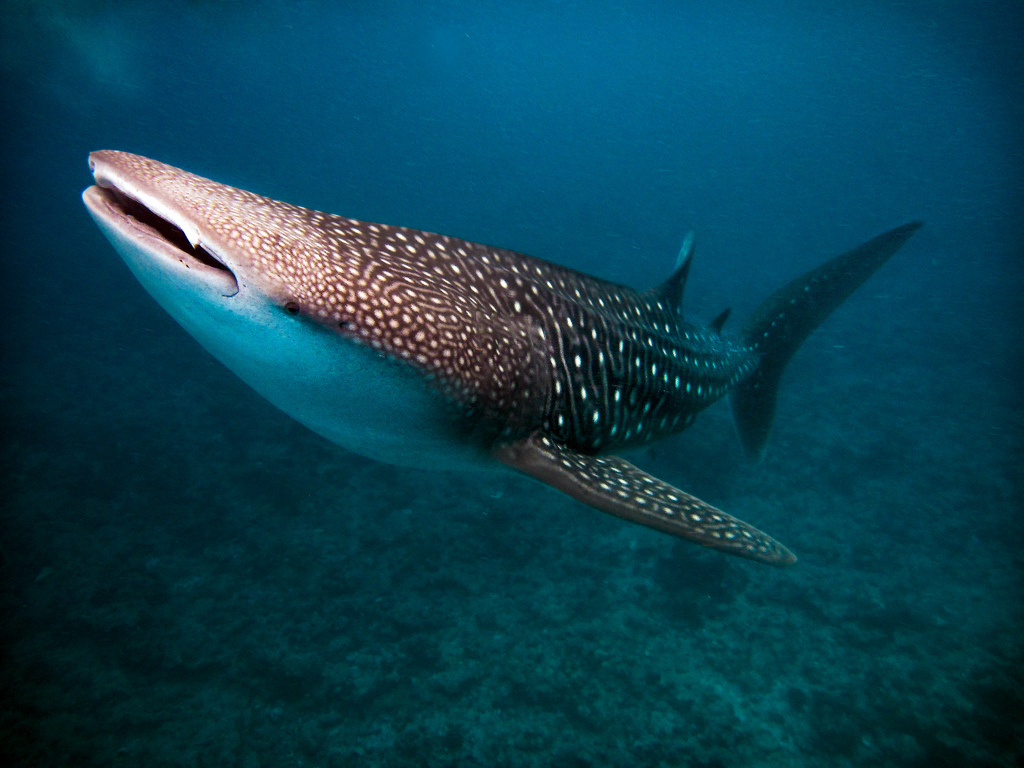Rhincodon_typusw: (63, 132, 999, 626)
